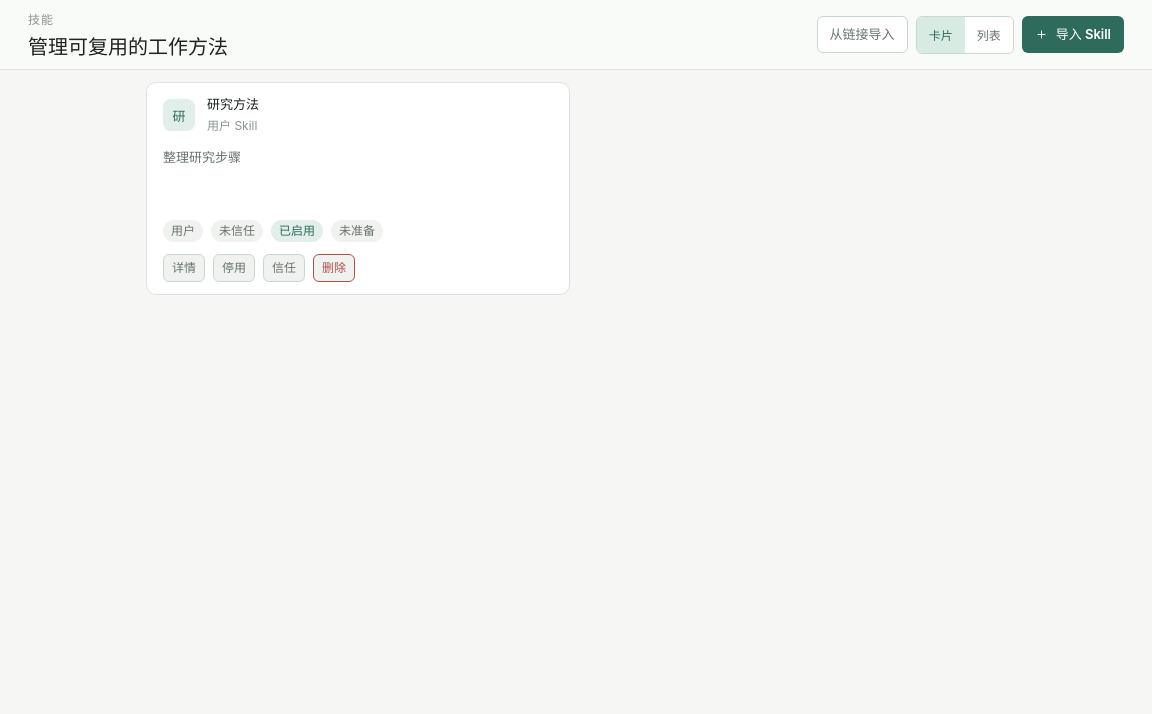
Test: SkillsPage › returns to browse when the back button is pressed in detail view
Check: the text "研究方法" is shown, box x1=207 y1=95 x2=259 y2=113
Step 1. Click the button "研 研究方法 用户 Skill 整理研究步骤" → (179, 115), box x1=163 y1=95 x2=553 y2=208
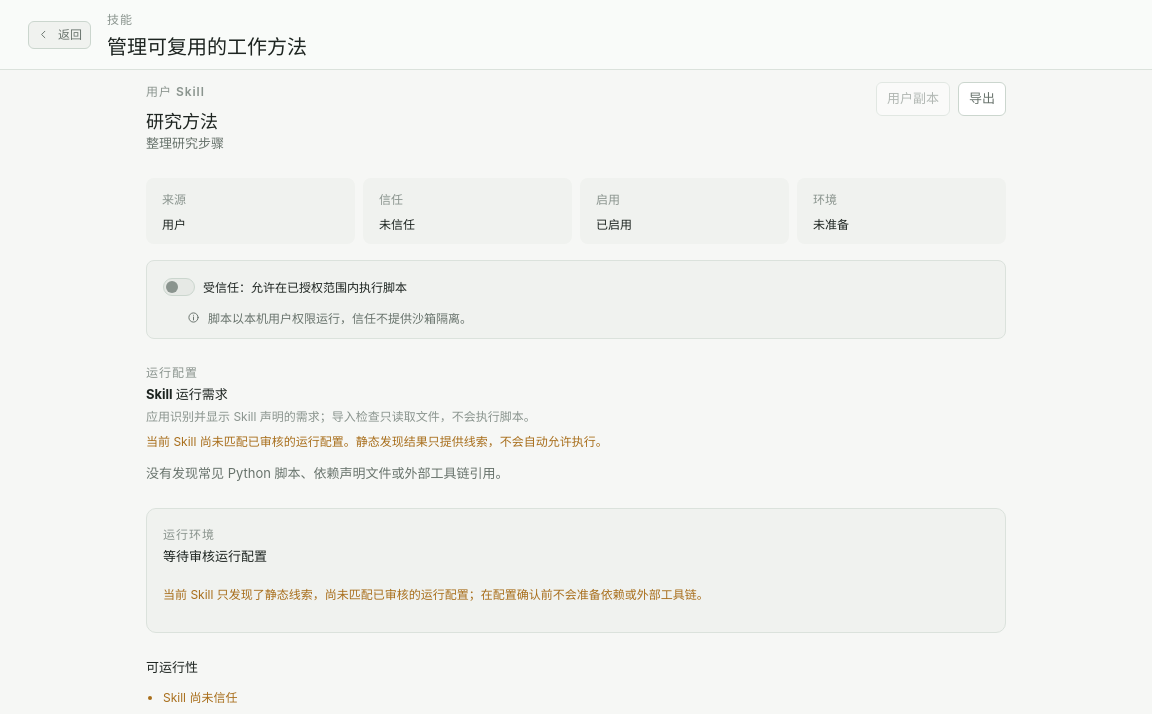
Check: the heading "研究方法" is shown, box x1=146 y1=107 x2=218 y2=133
Step 2. Click the button "返回" → (60, 34), box x1=28 y1=20 x2=91 y2=48
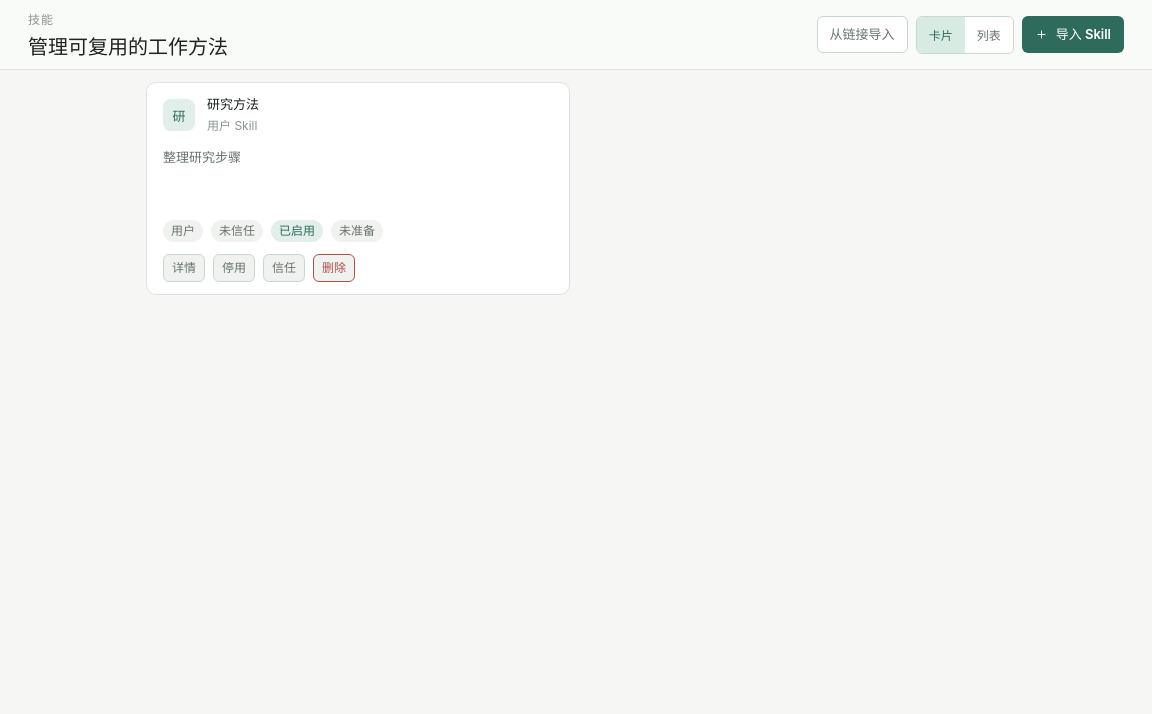
Check: the element named "视图模式" is shown, box x1=916 y1=16 x2=1014 y2=54
